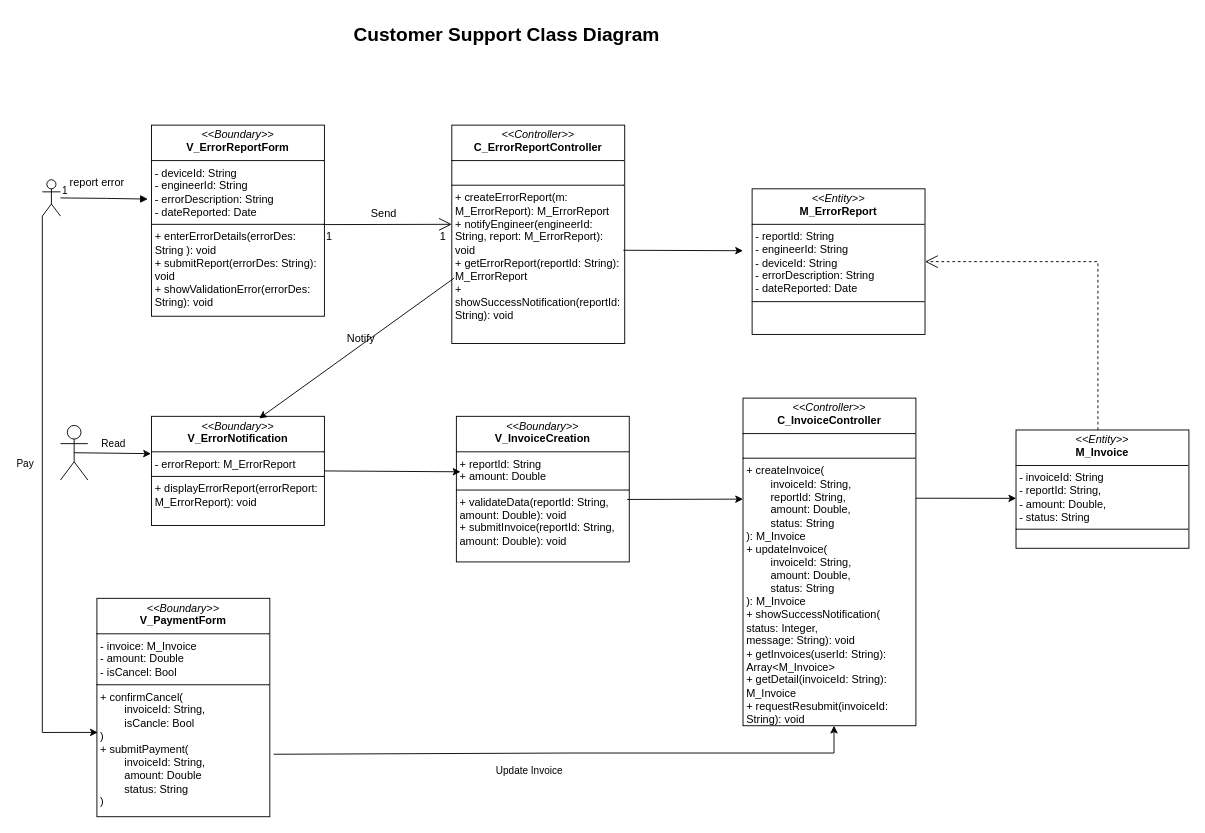
Image size: 1205x833. Some labels were removed from this diagram. The shapes that lost their labels are listed below. From the top down, each one's centre as x and y in pixels, then its label:
At point 51,197: "User".
At point 74,452: "Engineer".
